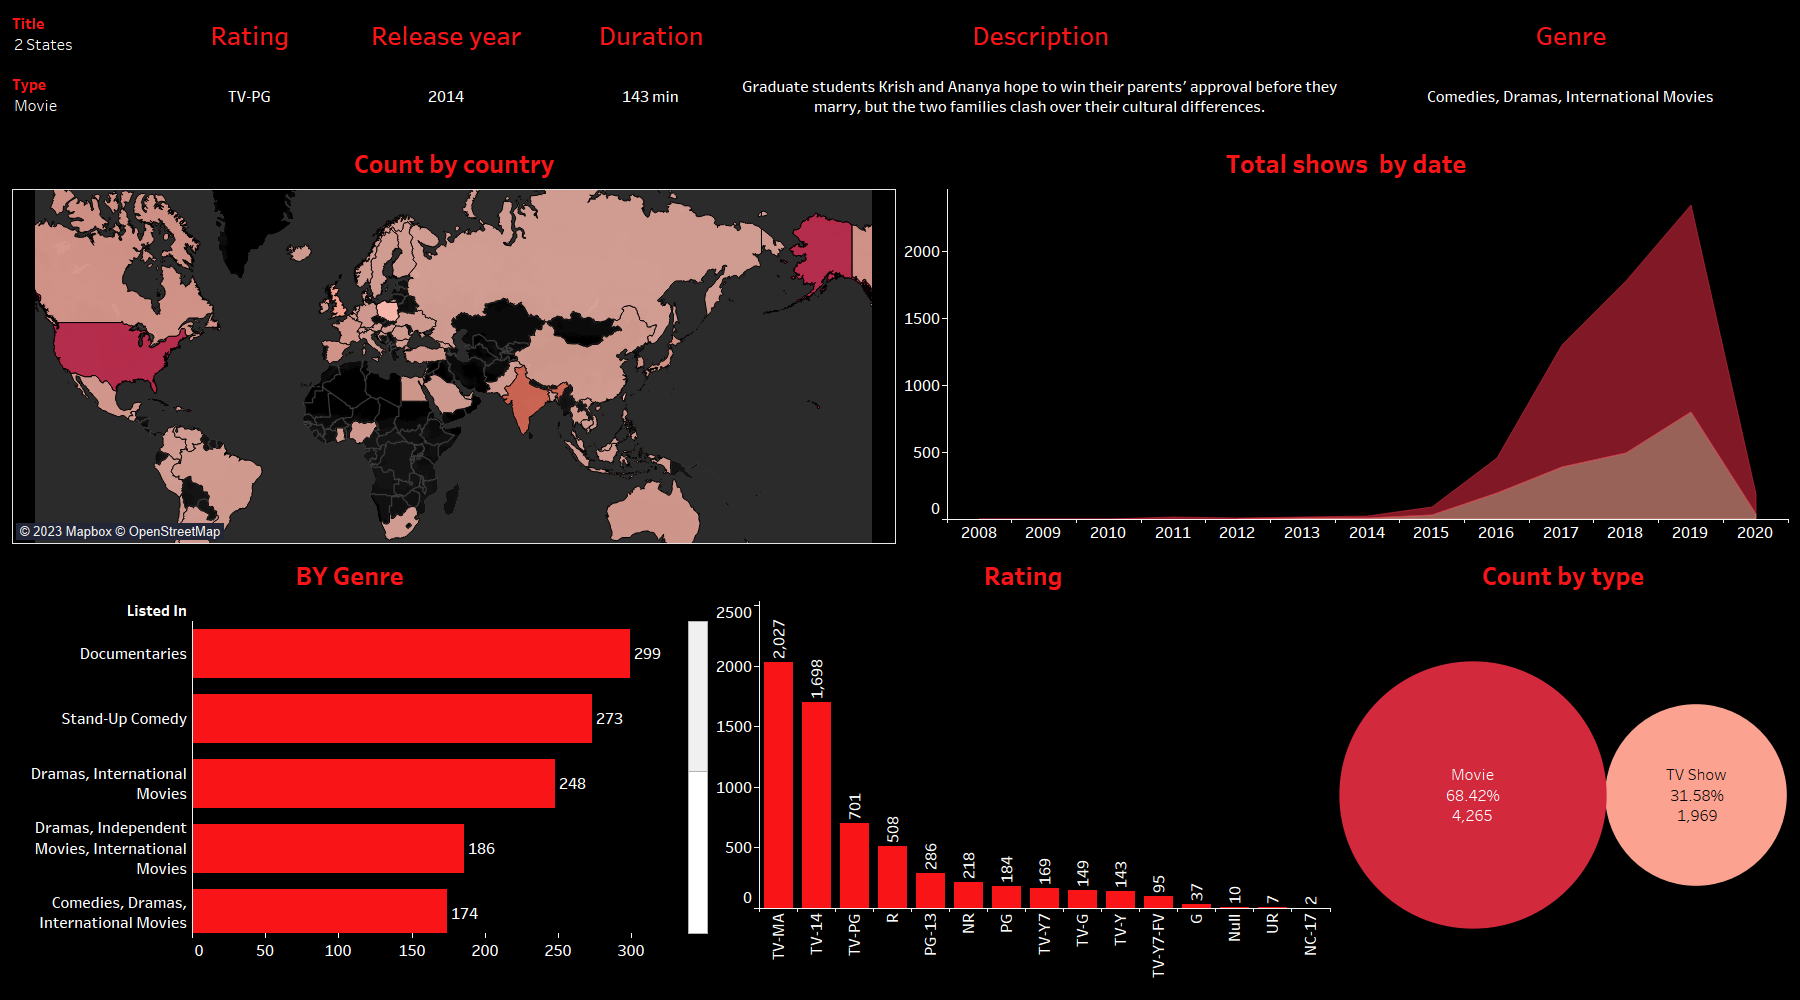

The page's visual inventory and layout, read from the dashboard file:
{"tool":"tableau","page":{"name":"Netflix project","canvas":[1800,1000],"ordinal":0},"visuals":[{"type":"filter","title":"description","param":"[federated.1kdg0nw1aqois412zlffc0ji85j2].[none:title:nk]","box":[8,8,170,61]},{"type":"worksheet","title":"Rating","mark":"Automatic","box":[178,8,143,128]},{"type":"worksheet","title":"Release year","mark":"Automatic","box":[321,8,250,128]},{"type":"worksheet","title":"duration","mark":"Automatic","box":[571,8,160,128]},{"type":"worksheet","title":"description","mark":"Automatic","box":[731,8,619,128]},{"type":"worksheet","title":"Genre","mark":"Automatic","box":[1350,8,442,128]},{"type":"filter","title":"description","param":"[federated.1kdg0nw1aqois412zlffc0ji85j2].[none:type:nk]","box":[8,69,170,61]},{"type":"worksheet","title":"Count by country","mark":"Multipolygon","box":[8,136,892,412]},{"type":"worksheet","title":"total movies by date","mark":"Area","rows":["show_id"],"cols":["date_added"],"box":[900,136,892,412]},{"type":"worksheet","title":"top 10 genre","mark":"Automatic","rows":["listed_in"],"cols":["show_id"],"box":[8,548,704.1,444]},{"type":"worksheet","title":"Ratings by number","mark":"Automatic","rows":["show_id"],"cols":["rating"],"box":[712.1,548,621.8,444]},{"type":"worksheet","title":"count by type","mark":"Circle","box":[1333.9,548,458.1,444]}]}

Visuals, with their boxes in screenshot pixels (x1, y1, x2, y2), scaled from the page's 1800x1000 canvas onto the 1800x1000 screenshot:
"description" filter: <box>8,8,178,69</box>
"Rating" worksheet: <box>178,8,321,136</box>
"Release year" worksheet: <box>321,8,571,136</box>
"duration" worksheet: <box>571,8,731,136</box>
"description" worksheet: <box>731,8,1350,136</box>
"Genre" worksheet: <box>1350,8,1792,136</box>
"description" filter: <box>8,69,178,130</box>
"Count by country" worksheet (Multipolygon marks): <box>8,136,900,548</box>
"total movies by date" worksheet (Area marks): <box>900,136,1792,548</box>
"top 10 genre" worksheet: <box>8,548,712,992</box>
"Ratings by number" worksheet: <box>712,548,1334,992</box>
"count by type" worksheet (Circle marks): <box>1334,548,1792,992</box>
